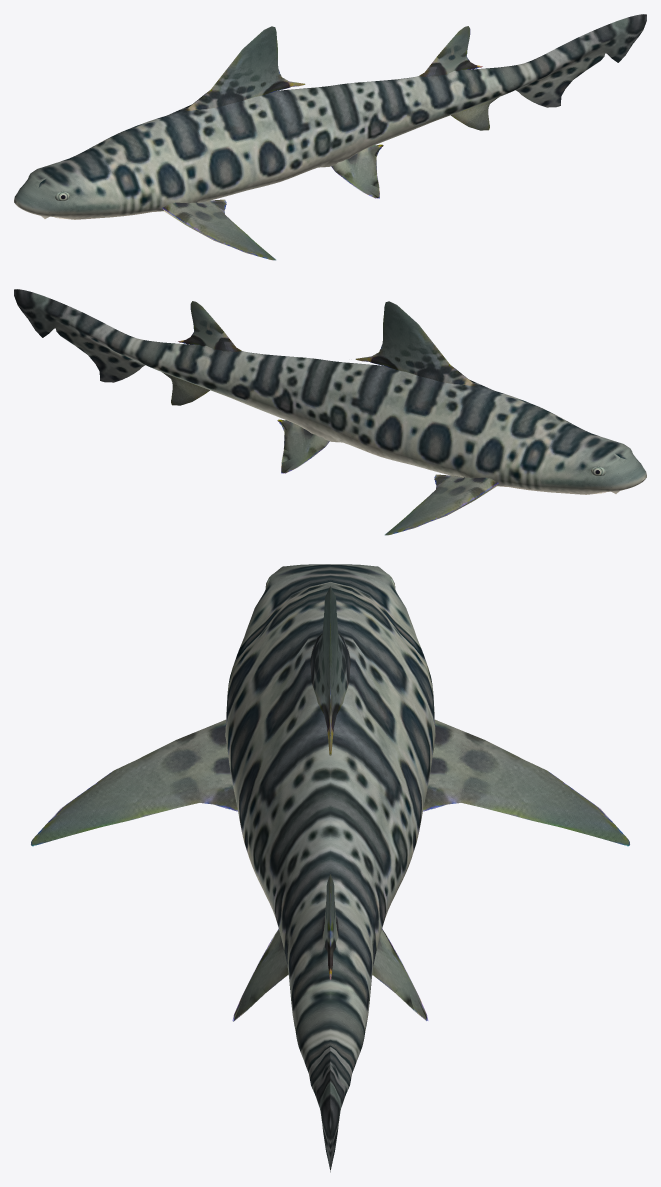
File: Leopard_Shark.fbx
3 views of the same model, one above another, from view 1: azimuth 30°, elevation 25°; view 2: azimuth 150°, elevation 25°; view 3: azimuth 270°, elevation 25° (orthographic). The views are drawn at different scales.
Visible parts, largest first — view 1: Model; view 2: Model; view 3: Model.
Boxes of the visible parts, x1,y1,x2,y2 form: Model: (14,14,646,260); Model: (14,289,646,535); Model: (31,564,629,1172).
Bounding box in the file's own units: 73.35 × 19.47 × 30.3.
